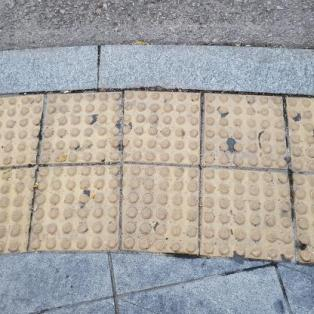Podoctatil: (0, 77, 313, 270)
